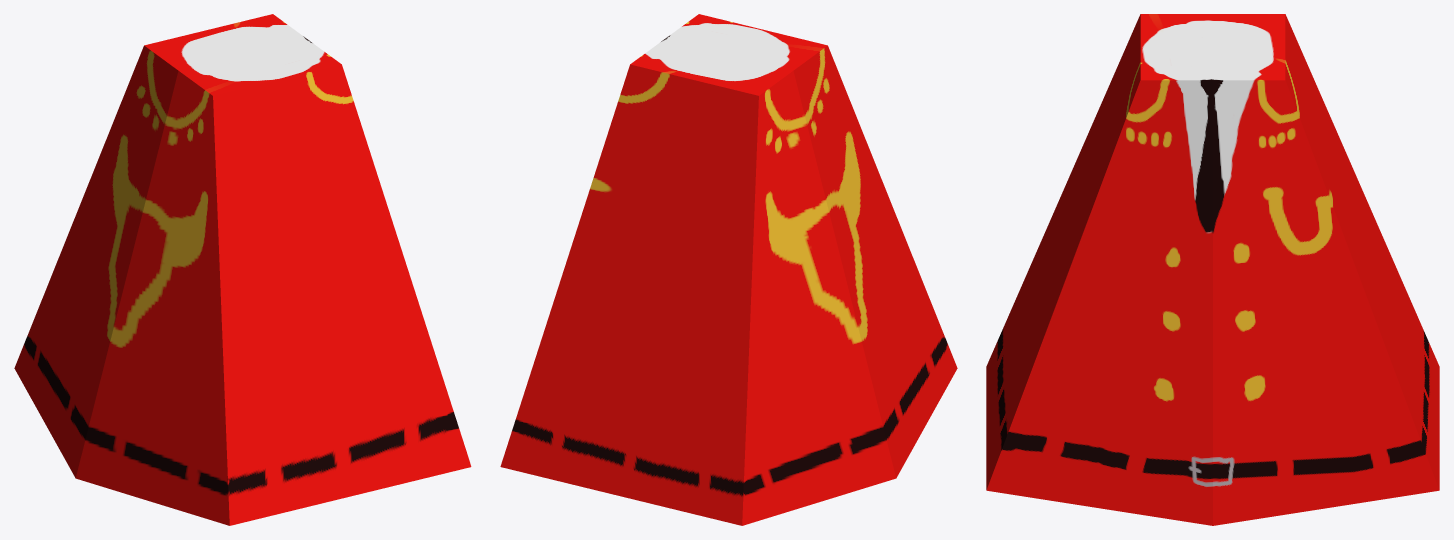
Rendered from MatadorBody.fbx.
The picture shows the model from 3 angles, left to right: view 1: azimuth 30°, elevation 25°; view 2: azimuth 150°, elevation 25°; view 3: azimuth 270°, elevation 25°; orthographic projection. The views are drawn at different scales.
Visible parts, largest first — view 1: Cube.003; view 2: Cube.003; view 3: Cube.003.
Boxes of the visible parts, x1,y1,x2,y2 form: Cube.003: (14, 14, 471, 525); Cube.003: (500, 14, 957, 525); Cube.003: (986, 14, 1439, 525).
Size of the model in its own units: 713 by 881 by 842.
